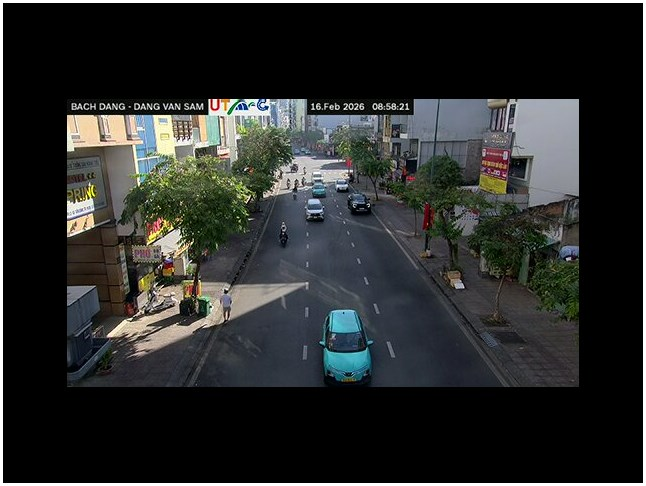car: (318, 308, 374, 384), (305, 199, 325, 221), (348, 193, 370, 213), (559, 245, 579, 262), (312, 183, 328, 199), (335, 179, 349, 192)
